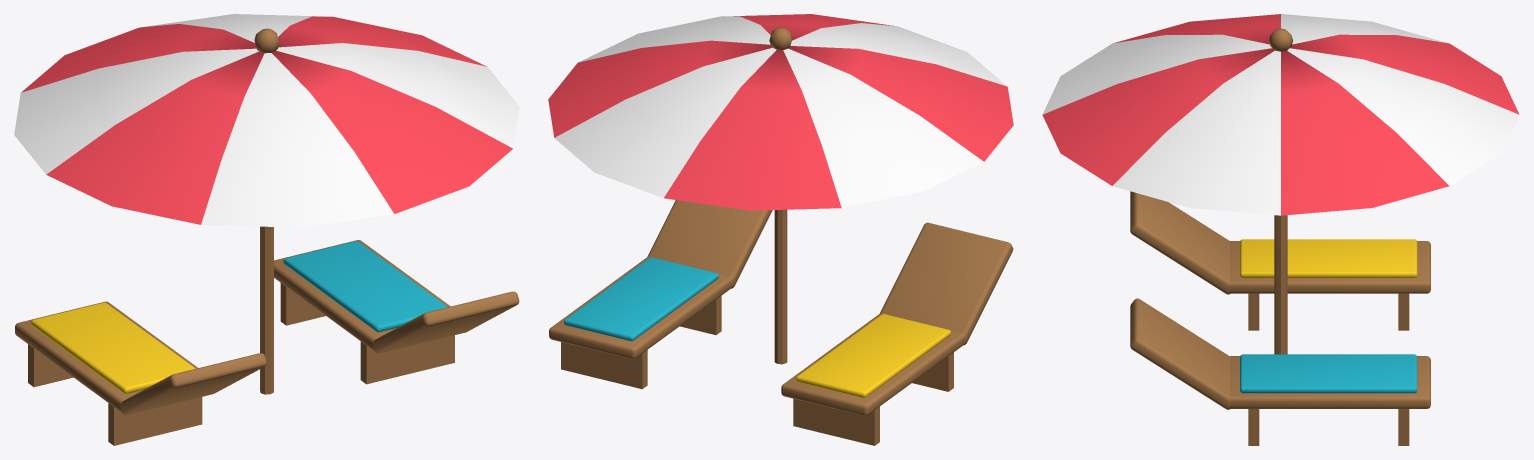
File: umbrella.glb
3 renders of one model, left to right at view 1: azimuth 30°, elevation 25°; view 2: azimuth 150°, elevation 25°; view 3: azimuth 270°, elevation 25°, orthographic. The views are drawn at different scales.
Parts seen in each view (by area): view 1: Umbrella; view 2: Umbrella; view 3: Umbrella.
Part boxes in pixels (x1,y1,x2,y2): Umbrella: [14, 14, 519, 445]; Umbrella: [548, 14, 1013, 445]; Umbrella: [1042, 14, 1519, 445].
Bounding box in the file's own units: 3.5 × 2.74 × 3.5.
